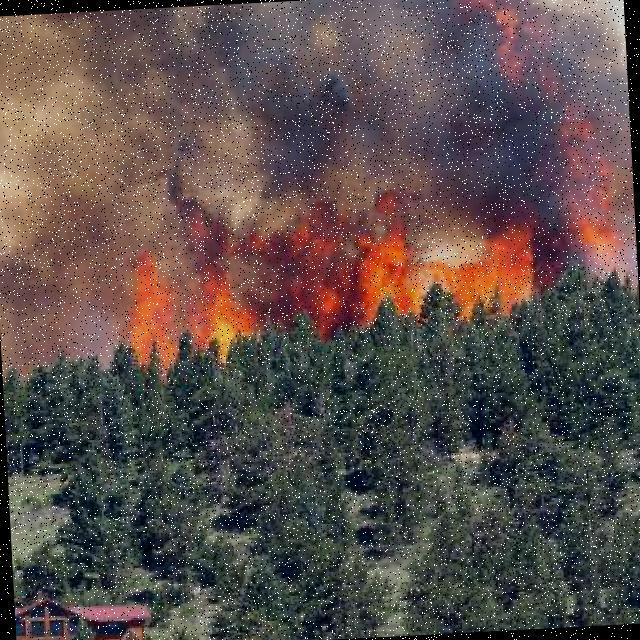Fire: (120, 217, 533, 338), (554, 107, 620, 266)
Smoke: (194, 227, 380, 318)
